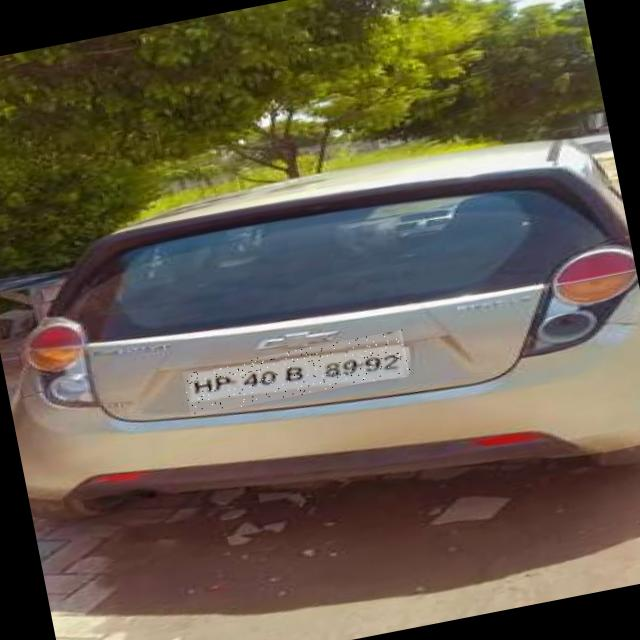Plate: (184, 331, 412, 418)
